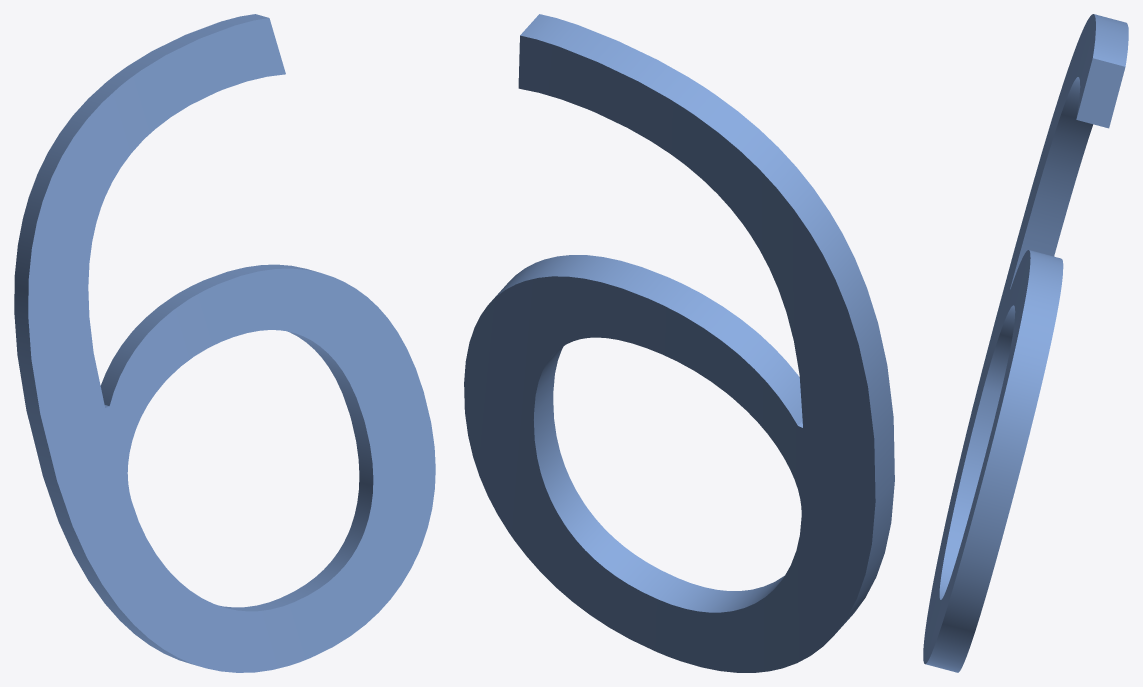
File: Number_9.gltf
The picture shows the model from 3 angles, left to right: view 1: azimuth 30°, elevation 25°; view 2: azimuth 150°, elevation 25°; view 3: azimuth 270°, elevation 25°; orthographic projection. The views are drawn at different scales.
Visible parts, largest first — view 1: Sub_2_Cell_2_1_Number_9; view 2: Sub_2_Cell_2_1_Number_9; view 3: Sub_2_Cell_2_1_Number_9.
Part boxes in pixels (bbox=[...]): Sub_2_Cell_2_1_Number_9: bbox=[14, 14, 435, 672]; Sub_2_Cell_2_1_Number_9: bbox=[464, 14, 894, 672]; Sub_2_Cell_2_1_Number_9: bbox=[923, 14, 1128, 672].
Size of the model in its own units: 0.0173 by 0.0259 by 0.00769.
